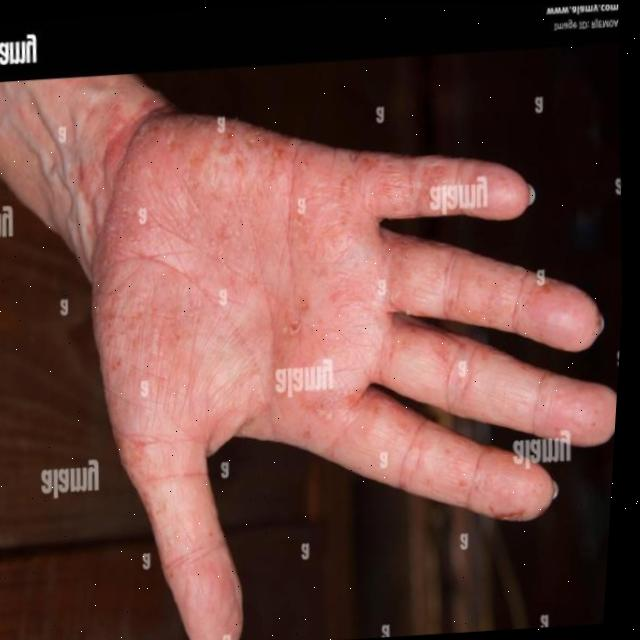Eczema: (35, 67, 409, 470)
